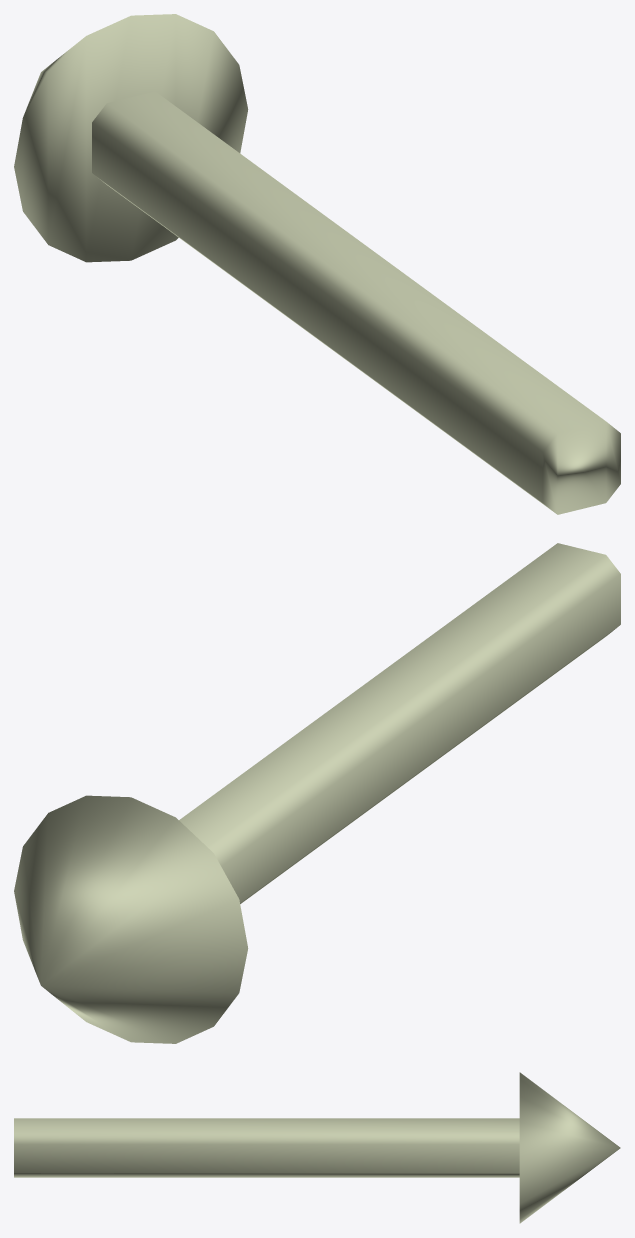
File: widget_translate.fbx
3 renders of one model, top to bottom at view 1: azimuth 30°, elevation 25°; view 2: azimuth 150°, elevation 25°; view 3: azimuth 270°, elevation 25°, orthographic. The views are drawn at different scales.
Parts seen in each view (by area): view 1: Cube5; view 2: Cube5; view 3: Cube5.
Boxes of the visible parts, <box> form: Cube5: <box>14,14,620,514</box>; Cube5: <box>14,543,620,1043</box>; Cube5: <box>14,1072,620,1223</box>.
Size of the model in its own units: 0.4714 by 0.4714 by 1.89.
